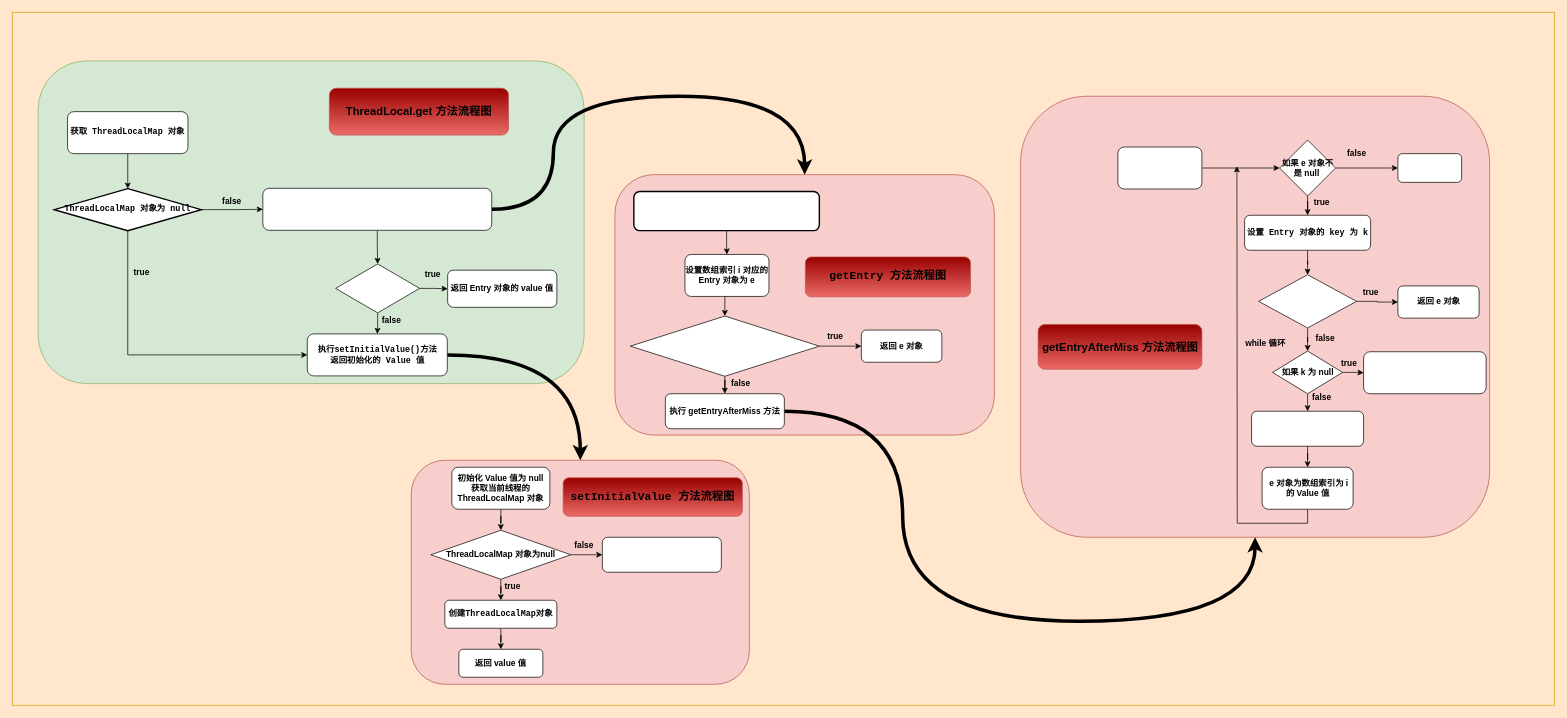
Image size: 1567x718. Some labels were removed from this diagram. Here are the shapes that lost their labels. From the top down, the centre of each, then its label:
pixel 1159 167: 设置 ThreadLocalMap 对象为 tab
pixel 1429 167: 返回 null
pixel 377 209: 执行 getEntry 方法， 设置 ThreadLocal 对象作为 key 的 Entry 对象为 e
pixel 726 210: 设置 ThreadLocal 对象通过哈希算法计算的值作为 ThreadLocalMap 数组的索引 i
pixel 377 288: 如果 e 不是null
pixel 1307 301: 如果 k 与当前调用调用 ThreadLocal 类的对象一致
pixel 724 345: 如果 e 对象不是 null 而且e 对象的 key 与当前调用 ThreadLocal 类的对象一致
pixel 1424 372: 执行 expungeStaleEntry 方法，清除被弃用的元素
pixel 1307 428: 设置获取下一个索引值为 i
pixel 661 554: 以当前ThreadLocal对象作为 key，null 作为 value 值
